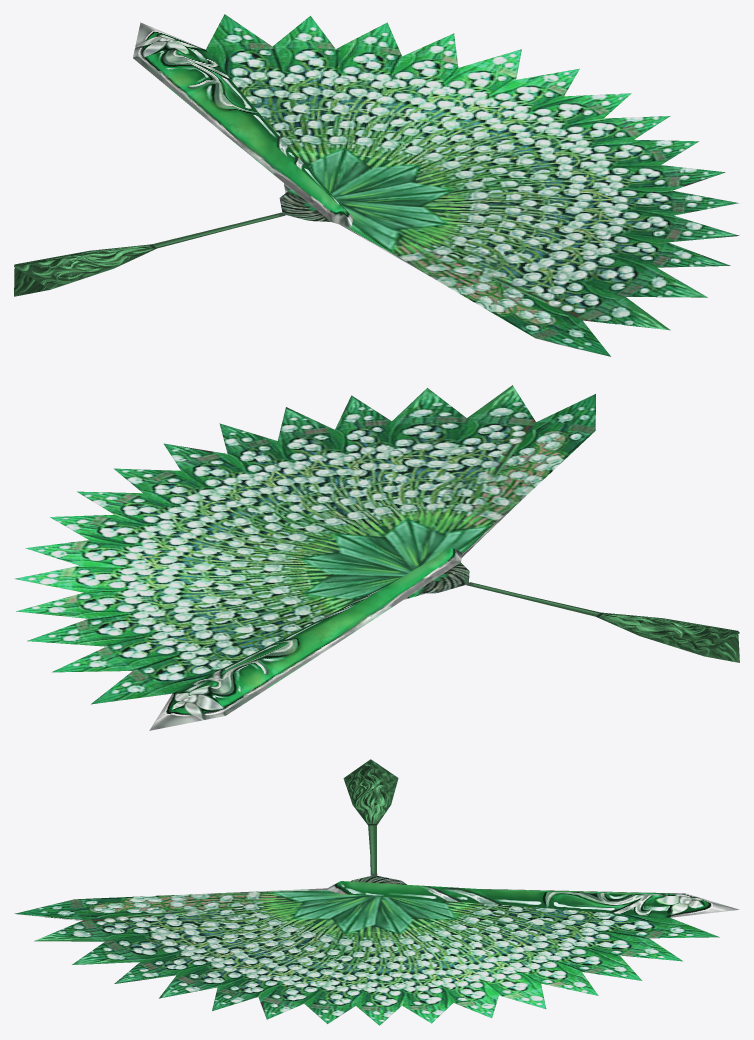
The model's file is yixian_weapon_1501.FBX.
3 renders of one model, top to bottom at view 1: azimuth 30°, elevation 25°; view 2: azimuth 150°, elevation 25°; view 3: azimuth 270°, elevation 25°, orthographic. The views are drawn at different scales.
Visible parts, largest first — view 1: yixian_weapon_1501; view 2: yixian_weapon_1501; view 3: yixian_weapon_1501.
Part boxes in pixels (x1,y1,x2,y2): yixian_weapon_1501: (14, 14, 739, 356); yixian_weapon_1501: (14, 385, 739, 730); yixian_weapon_1501: (14, 759, 738, 1025).
Size of the model in its own units: 143 by 6.18 by 172.
